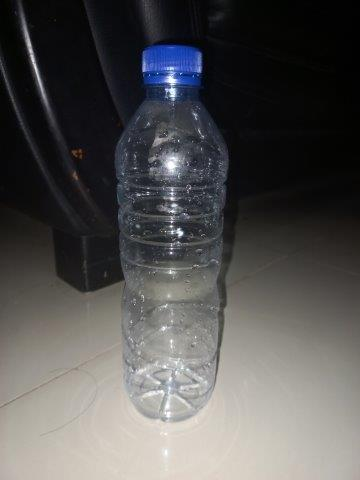botolplastik: (113, 42, 229, 420)
